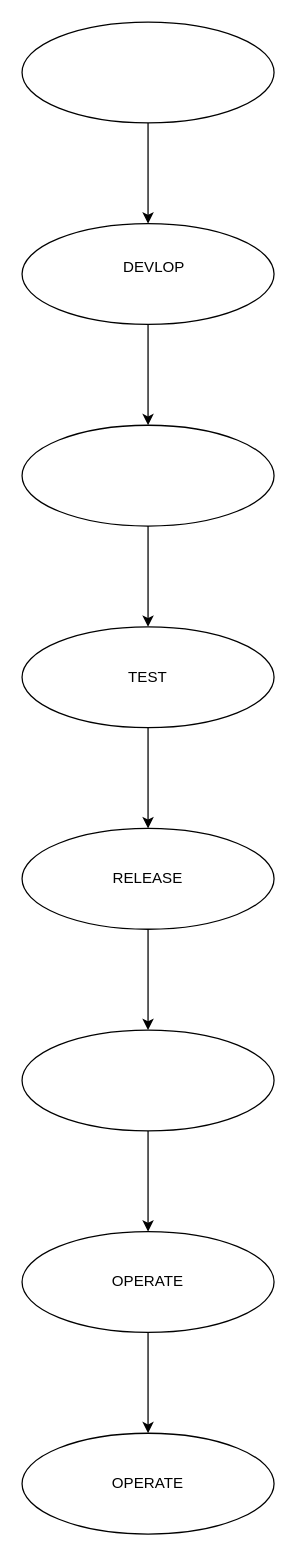
The diagram is 296 pixels wide and 1556 high, and some of its shapes have lost their labels. Here are the shapes that lost their labels. From the top down, the centre of each, then its label:
(x=147, y=72): PLAN
(x=147, y=475): BUILT
(x=147, y=1080): DEPLOY
